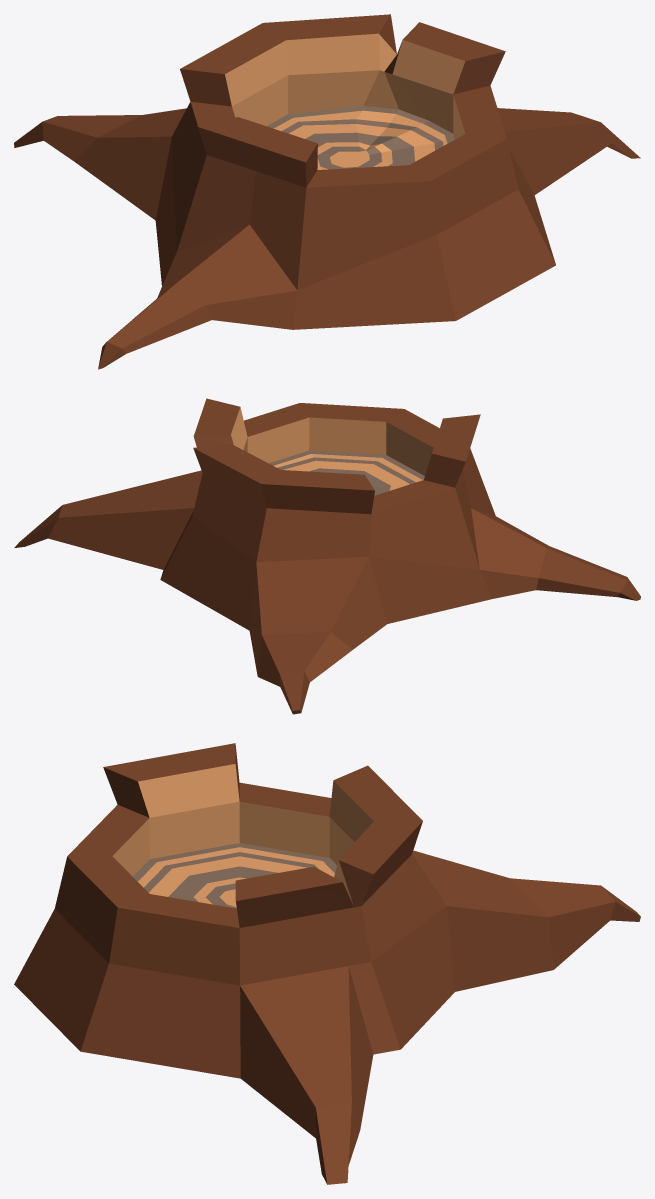
File: TREESTUMP.fbx
3 renders of one model, top to bottom at view 1: azimuth 30°, elevation 25°; view 2: azimuth 150°, elevation 25°; view 3: azimuth 270°, elevation 25°, orthographic. The views are drawn at different scales.
Visible parts, largest first — view 1: Circle; view 2: Circle; view 3: Circle.
Part boxes in pixels (x1=…): Circle: x1=14, y1=14, x2=640, y2=369; Circle: x1=14, y1=398, x2=640, y2=714; Circle: x1=14, y1=743, x2=640, y2=1184.
Bounding box in the file's own units: 1606 × 440 × 1293.
